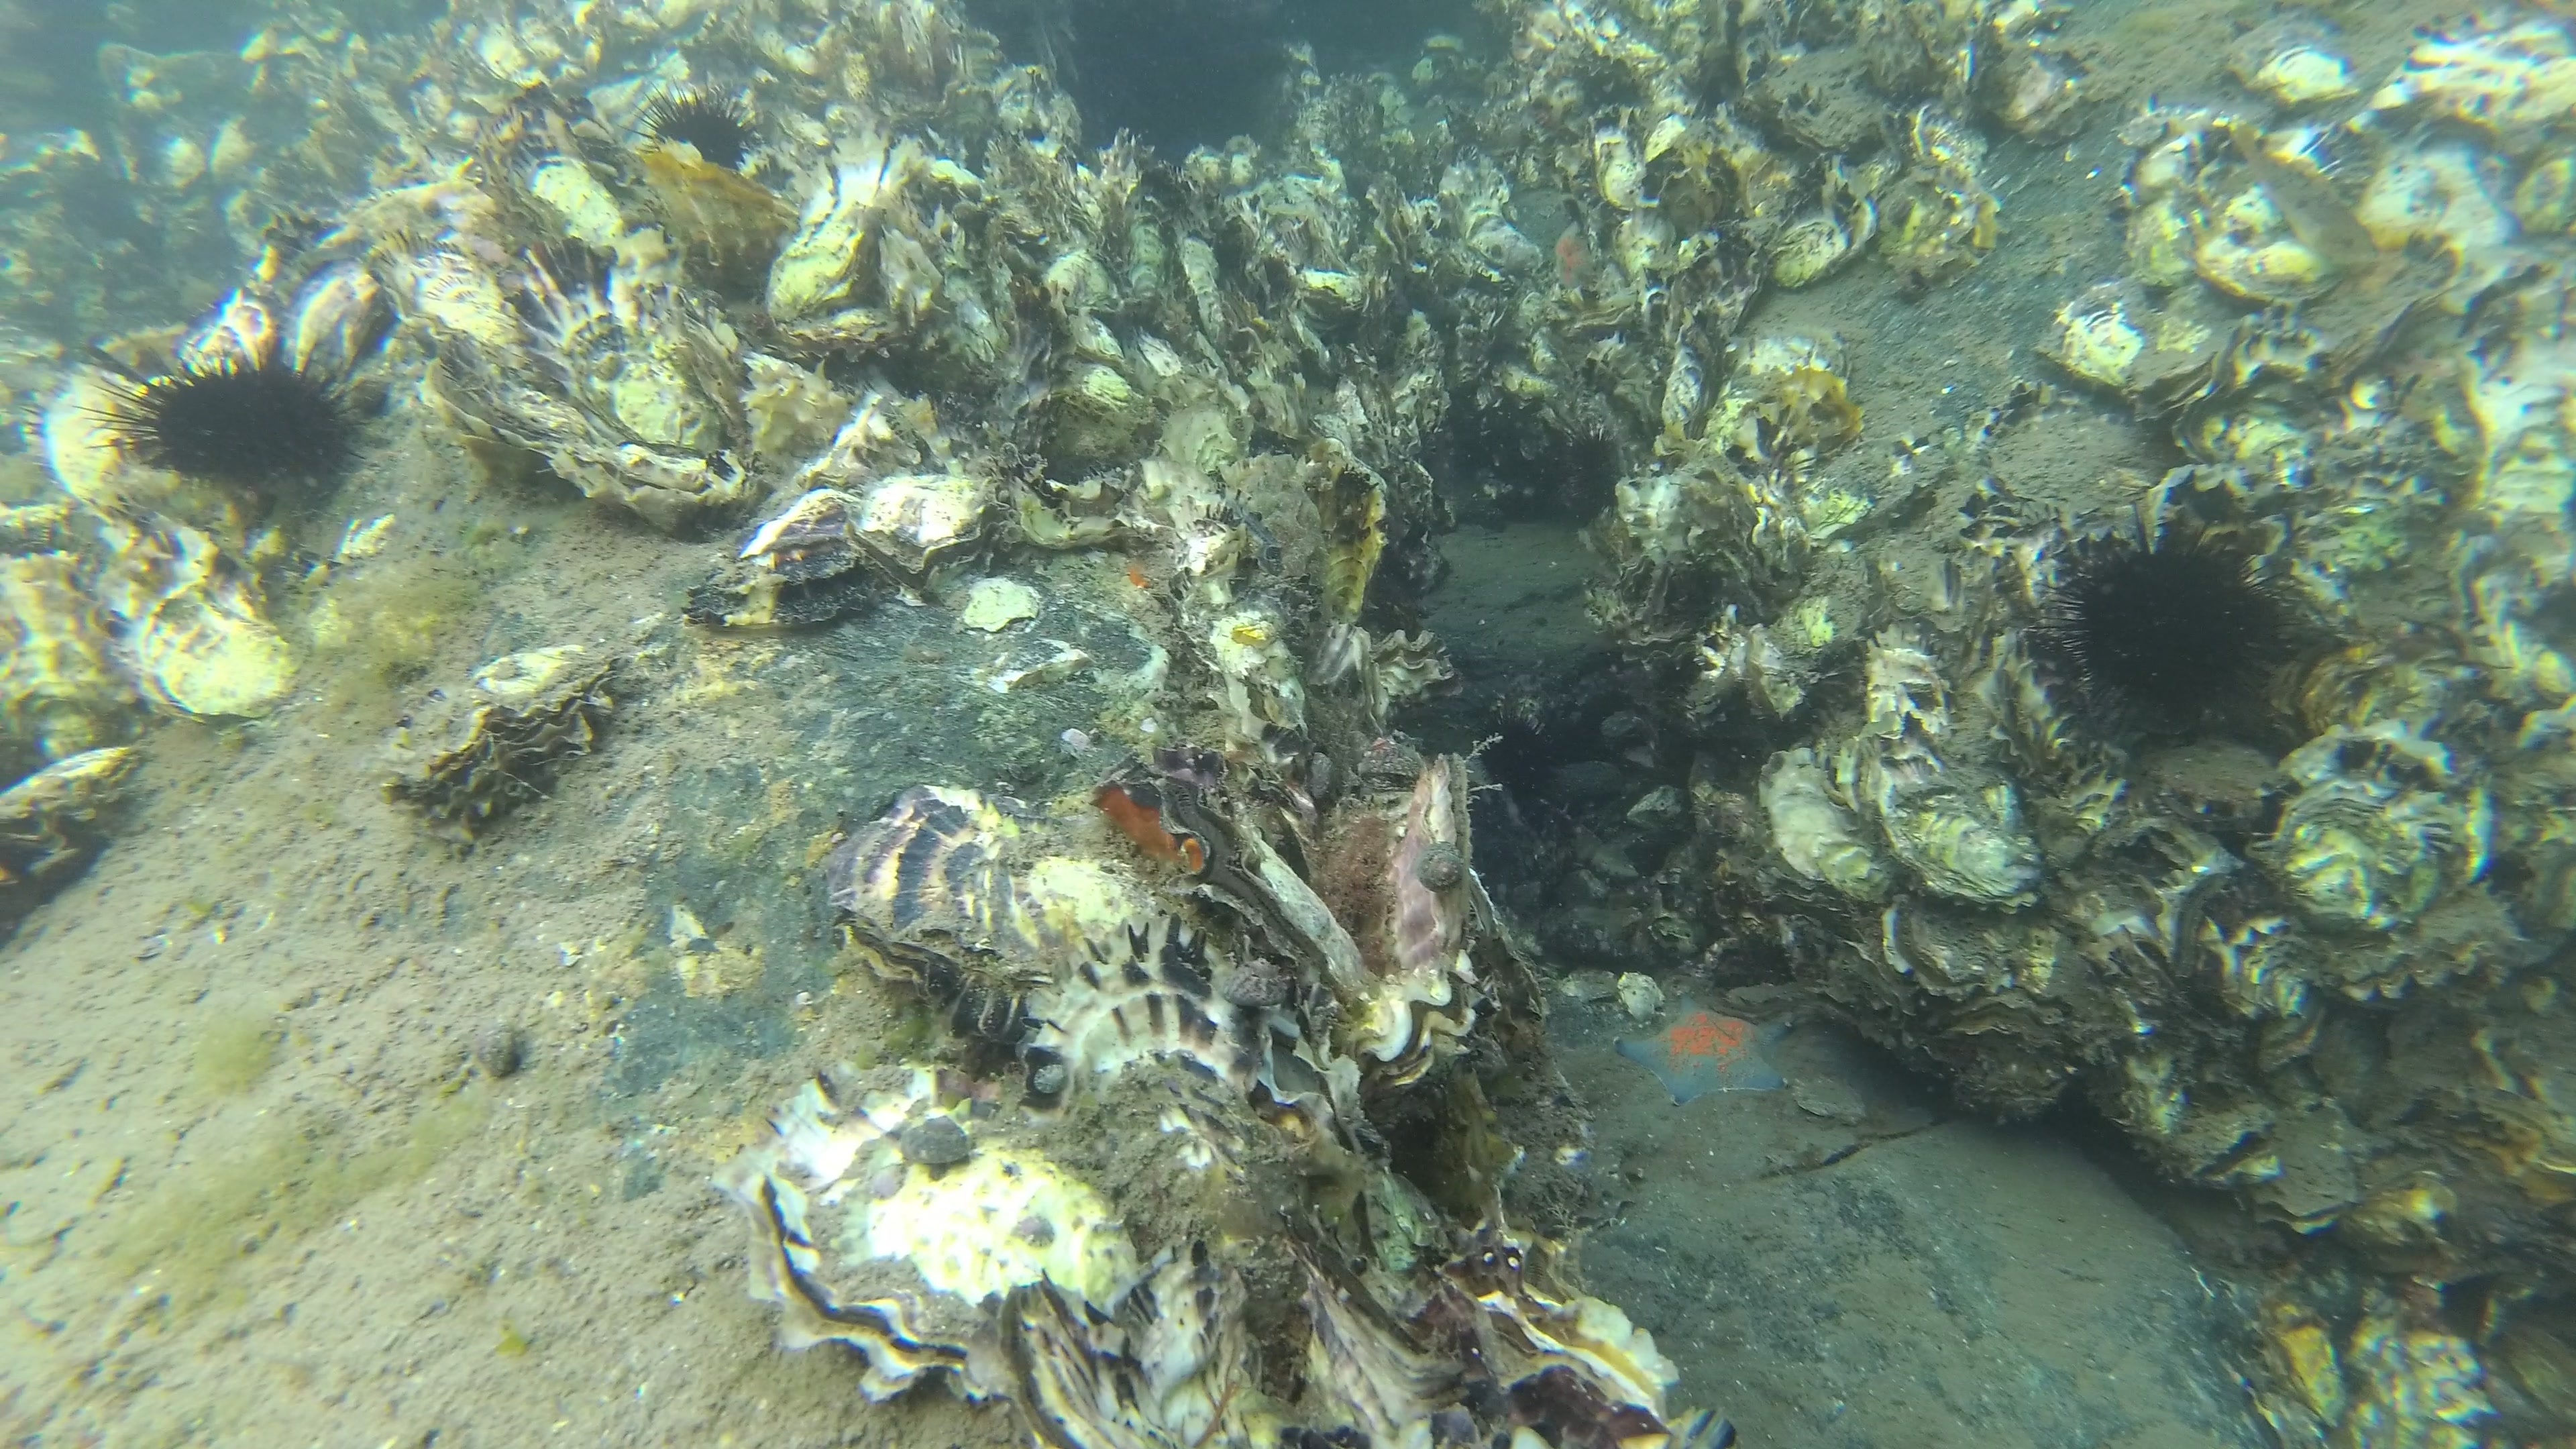echinus: (2042, 517, 2318, 752), (94, 345, 370, 497), (639, 83, 768, 175)
starfish: (1608, 984, 1803, 1109), (1541, 218, 1606, 297)
